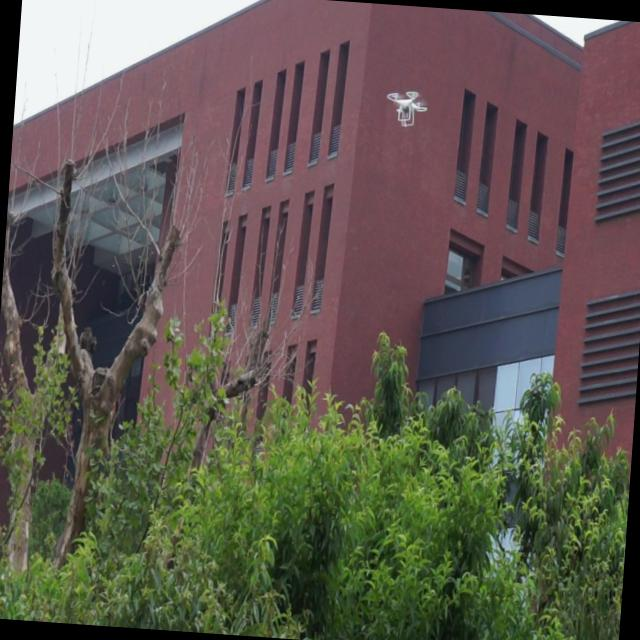drone: (381, 84, 434, 134)
